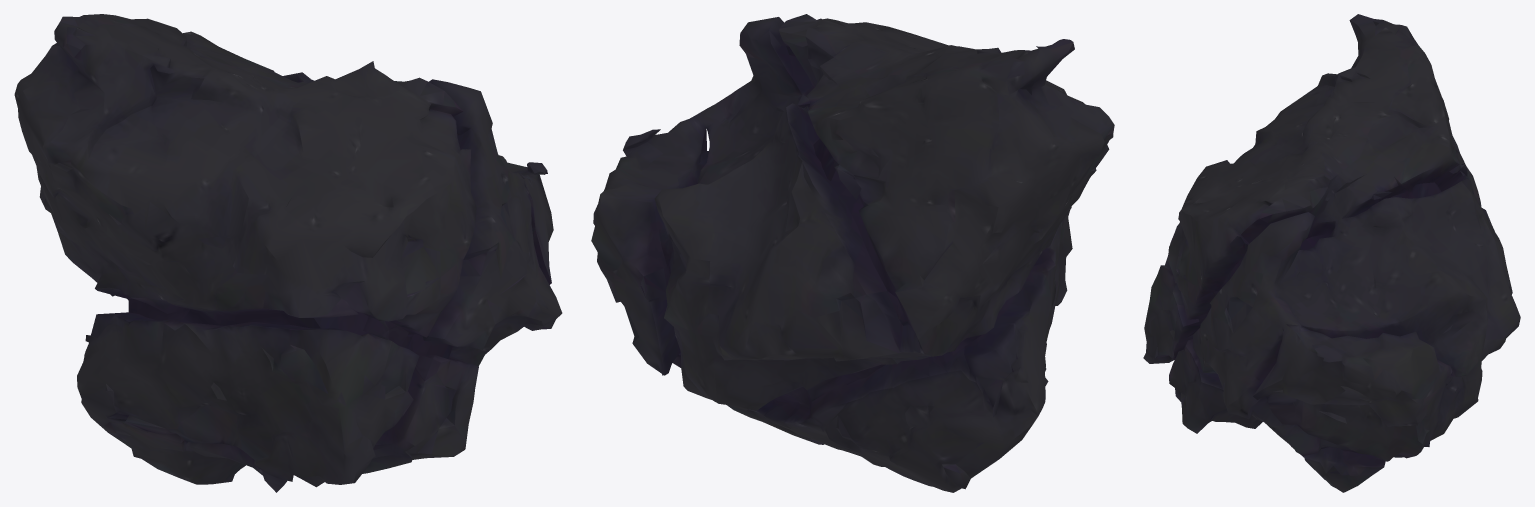
The model's file is rock-medium-fragment.glb.
3 views of the same model, side by side, from view 1: azimuth 30°, elevation 25°; view 2: azimuth 150°, elevation 25°; view 3: azimuth 270°, elevation 25° (orthographic). The views are drawn at different scales.
Visible parts, largest first — view 1: Rock_B_MediumFragment; view 2: Rock_B_MediumFragment; view 3: Rock_B_MediumFragment.
Boxes of the visible parts, bbox=[...] form: Rock_B_MediumFragment: bbox=[14, 14, 562, 492]; Rock_B_MediumFragment: bbox=[591, 14, 1114, 492]; Rock_B_MediumFragment: bbox=[1143, 14, 1520, 492].
Size of the model in its own units: 0.9665 by 0.9029 by 0.8361.
Materials: 1 (1 with a texture image).
